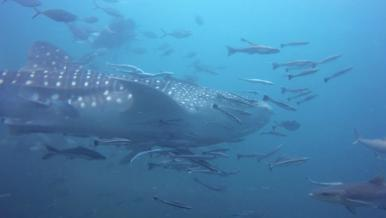Shark -Selachimorpha-: (0, 34, 275, 150)
